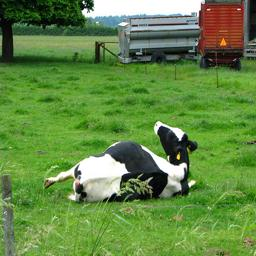cow: (106, 179, 256, 256)
